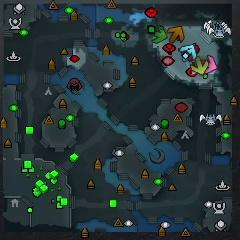x1: (202, 56, 217, 73)
x2: (192, 57, 209, 74)
x3: (181, 45, 197, 61)
x4: (148, 25, 167, 43)
x5: (167, 26, 185, 42)
